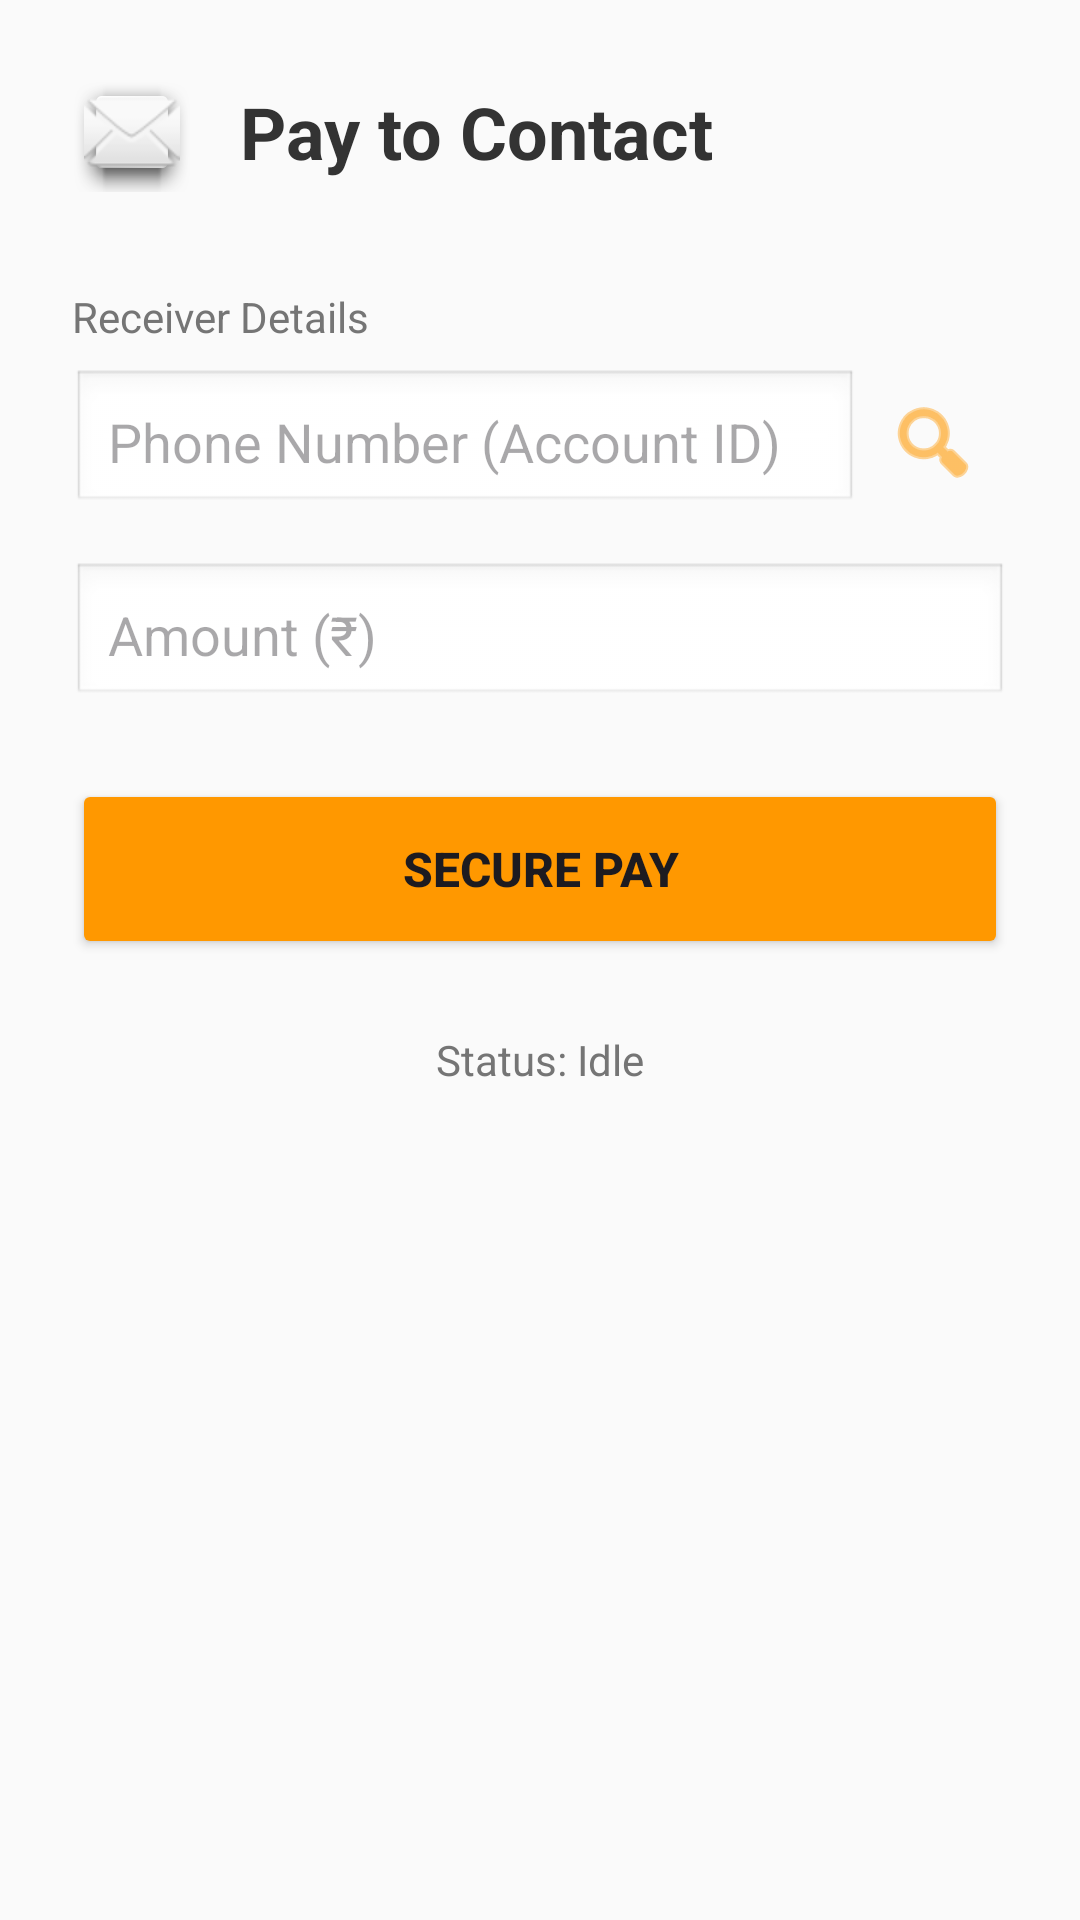

Named icons in this screenshot (1080*1920) and their bounding boxes, (x1, y1, x2, y2):
email: (84, 92, 180, 188)
